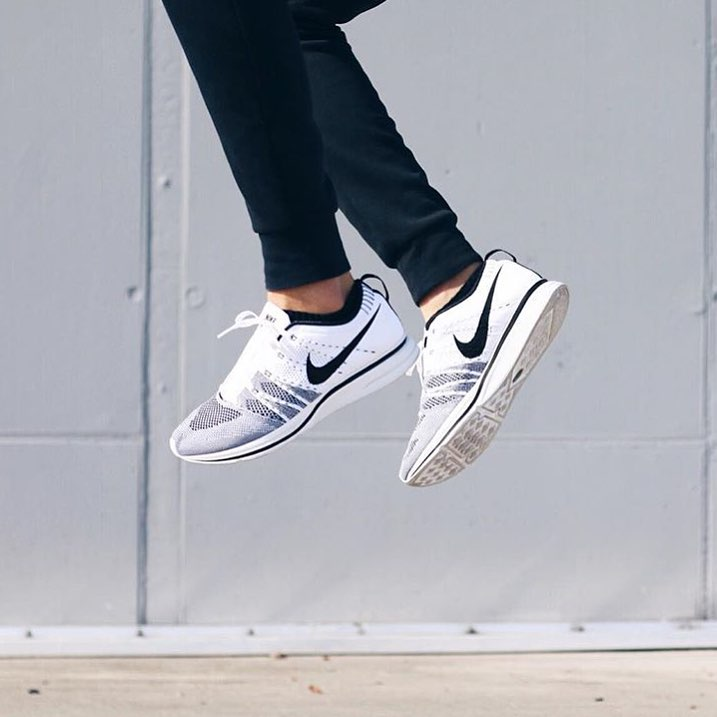sneaker: (161, 251, 429, 485), (376, 232, 587, 497)
